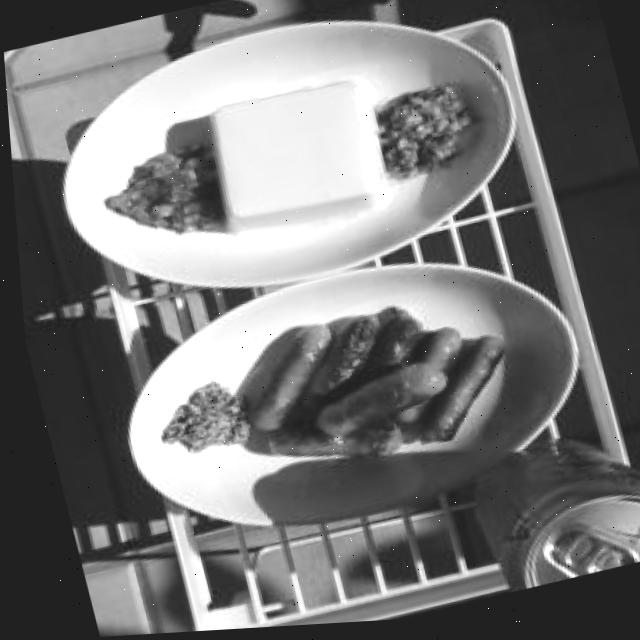豆腐料理: (183, 57, 405, 260)
